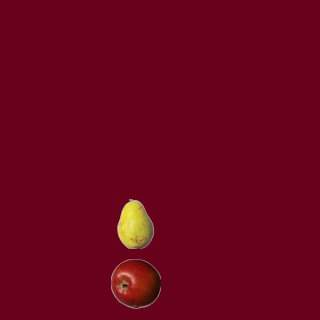Apple Braeburn: (110, 258, 160, 308)
Pear Monster: (110, 198, 160, 248)
